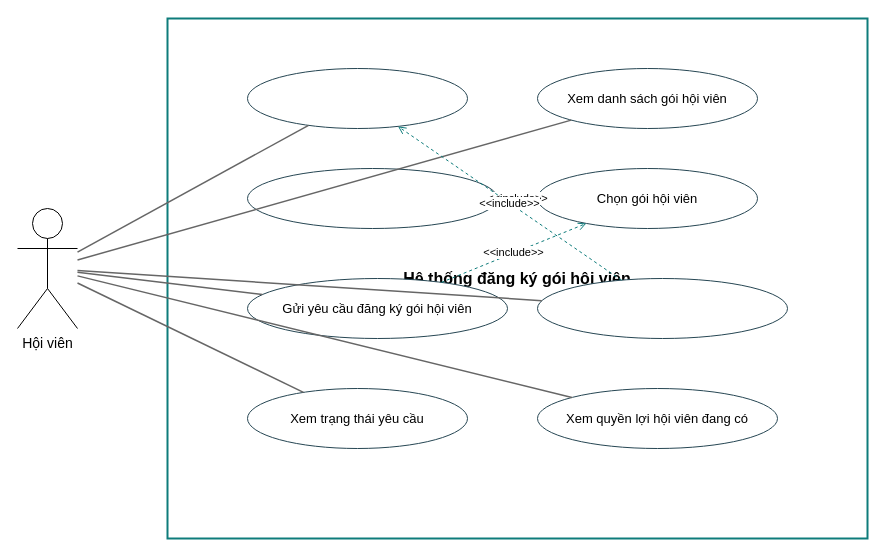
The diagram is 886 pixels wide and 556 high, and some of its shapes have lost their labels. The shapes that lost their labels are listed below. From the top down, each one's box as (x1, y1, x2, y2) in pixels, then its label:
(246, 68, 468, 128): Xem gói hội viên hiện tại
(246, 168, 498, 228): Xem chi tiết quyền lợi gói hội viên
(536, 278, 788, 338): Gửi yêu cầu gia hạn gói hội viên
